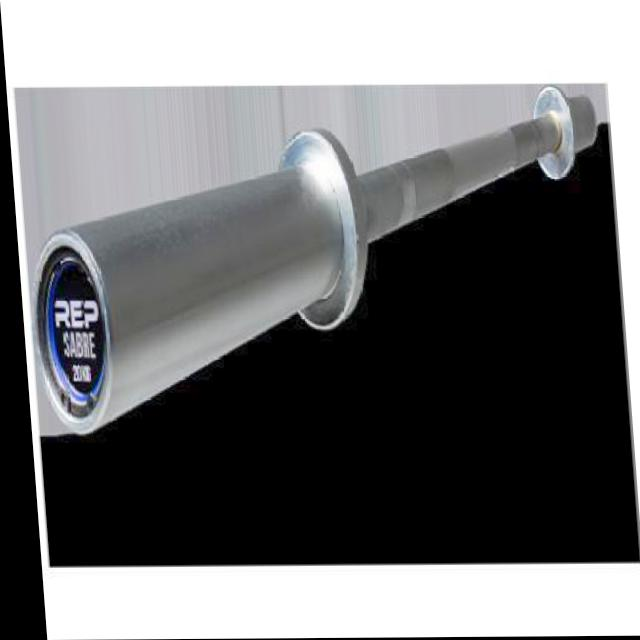barbell: (10, 119, 381, 466)
